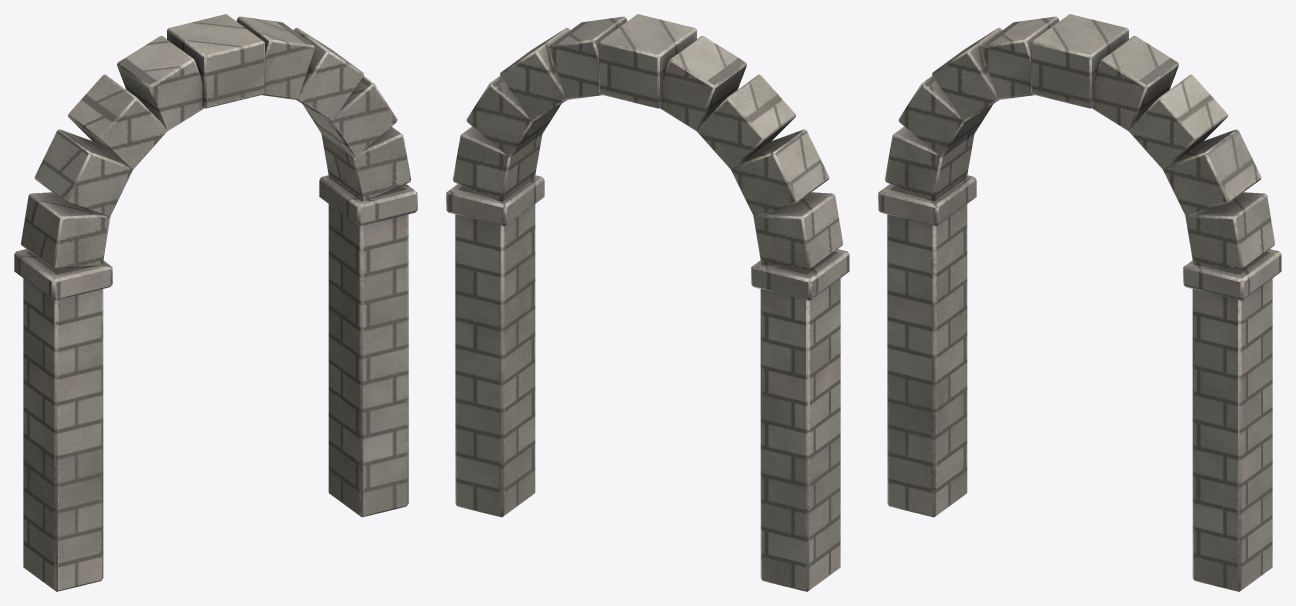
The model's file is arco.glb.
3 renders of one model, left to right at view 1: azimuth 30°, elevation 25°; view 2: azimuth 150°, elevation 25°; view 3: azimuth 330°, elevation 25°, orthographic.
Visible parts, largest first — view 1: arco; view 2: arco; view 3: arco.
Part boxes in pixels (left/top/right/bottom): arco: left=14, top=14, right=417, bottom=591; arco: left=446, top=14, right=849, bottom=591; arco: left=878, top=14, right=1281, bottom=591.
Size of the model in its own units: 3.14 by 4.13 by 0.6.
Materials: 1 (1 with a texture image).
